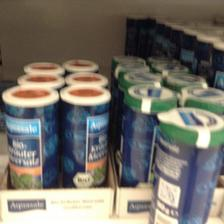Gewuerze: (146, 105, 222, 222), (1, 83, 59, 188), (118, 84, 174, 184), (58, 85, 110, 186)
